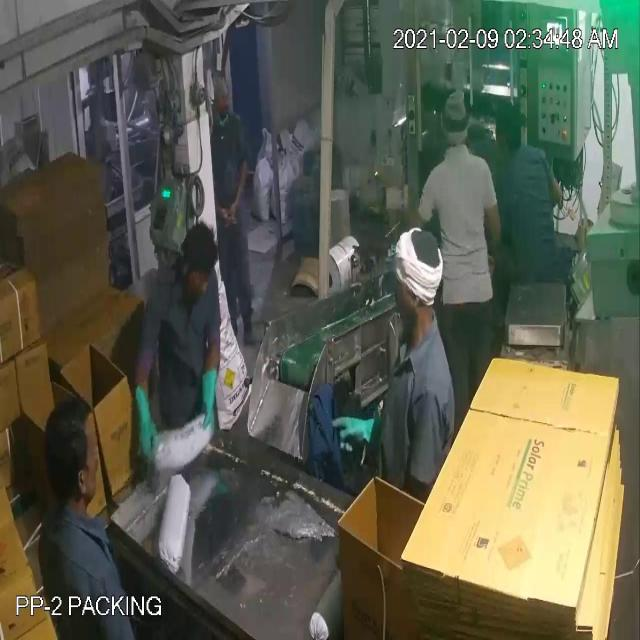gloves: (321, 401, 419, 474), (190, 358, 230, 448), (125, 373, 158, 457)
no-gloves: (216, 147, 253, 225), (479, 184, 504, 262)
